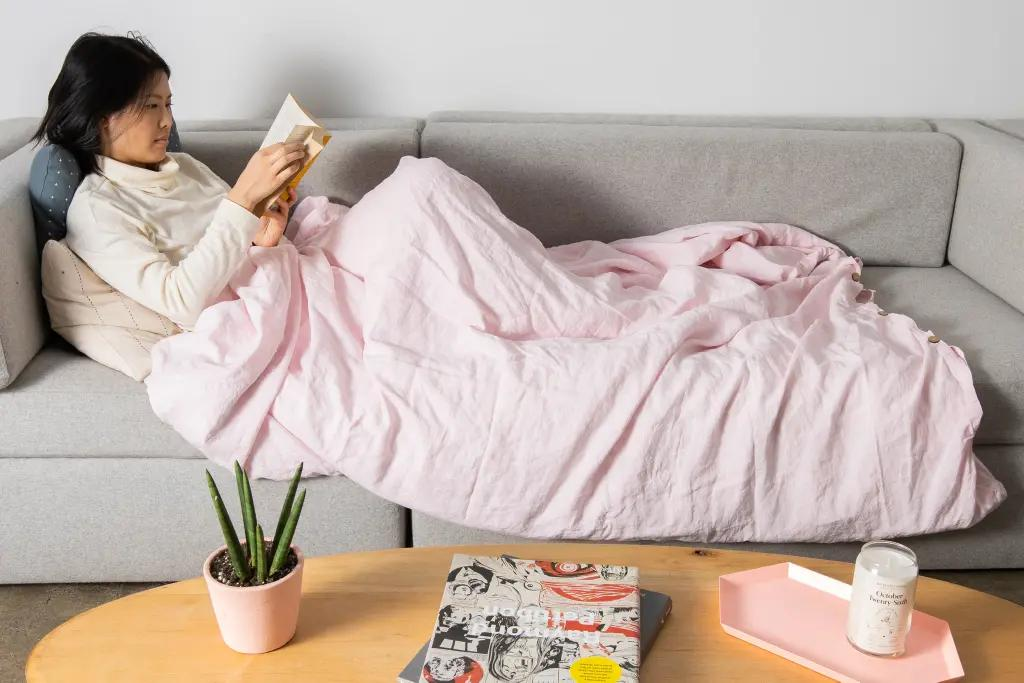blanket: (145, 153, 1005, 543)
sweater: (66, 151, 292, 336)
